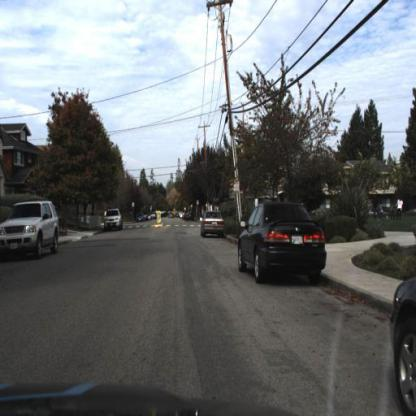car: (237, 200, 330, 283), (2, 198, 63, 264), (390, 275, 416, 415), (200, 211, 227, 240), (102, 206, 123, 232), (135, 209, 147, 225)
